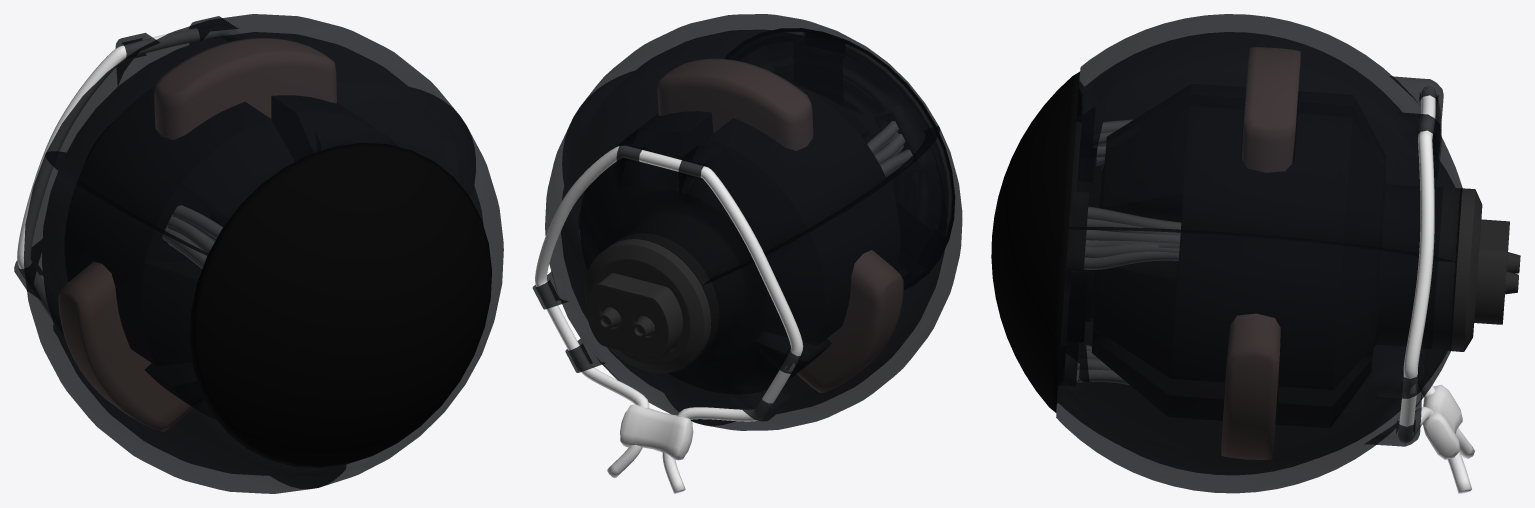
The model's file is robotic_eye-transformed.glb.
3 renders of one model, left to right at view 1: azimuth 30°, elevation 25°; view 2: azimuth 150°, elevation 25°; view 3: azimuth 270°, elevation 25°, orthographic. The views are drawn at different scales.
Visible parts, largest first — view 1: Battery_0, Eyeball Segment Low Poly_0; view 2: Eyeball Segment Low Poly_0, Battery_0; view 3: Eyeball Segment Low Poly_0, Battery_0.
Boxes of the visible parts, <box> form: Battery_0: <box>17,28,491,468</box>; Eyeball Segment Low Poly_0: <box>14,14,503,493</box>; Eyeball Segment Low Poly_0: <box>532,14,962,430</box>; Battery_0: <box>535,28,954,493</box>; Eyeball Segment Low Poly_0: <box>1056,14,1462,493</box>; Battery_0: <box>991,47,1520,493</box>.
Bounding box in the file's own units: 0.1115 × 0.1118 × 0.1227.
Materials: 3 (3 with a texture image).
